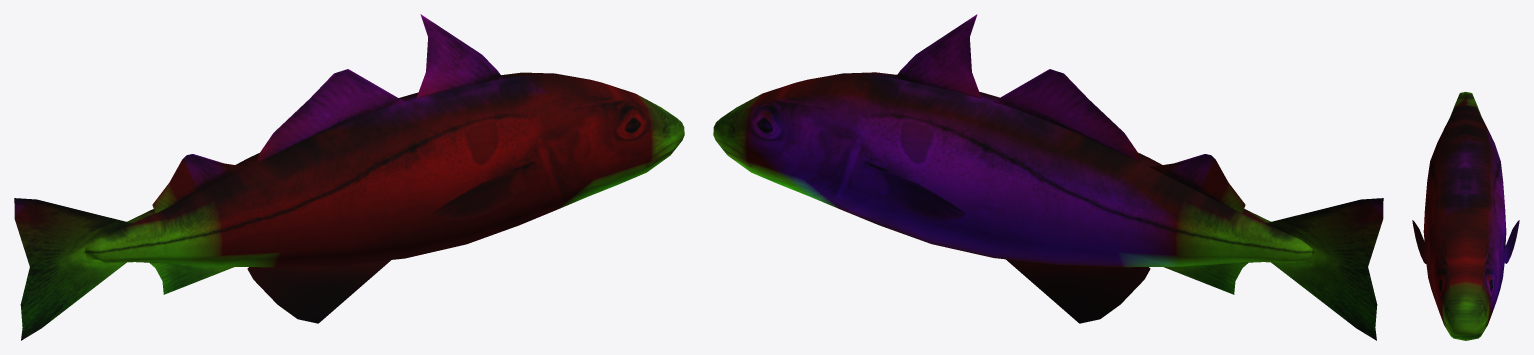
Rendered from haddock.glb.
3 views of the same model, side by side, from view 1: azimuth 30°, elevation 25°; view 2: azimuth 150°, elevation 25°; view 3: azimuth 270°, elevation 25° (orthographic). The views are drawn at different scales.
Parts seen in each view (by area): view 1: Haddock; view 2: Haddock; view 3: Haddock.
Part boxes in pixels (x1,y1,x2,y2): Haddock: (14, 14, 684, 340); Haddock: (713, 14, 1383, 340); Haddock: (1412, 92, 1519, 340).
Bounding box in the file's own units: 1 × 0.4079 × 0.1829.
1 material, 1 textured.
